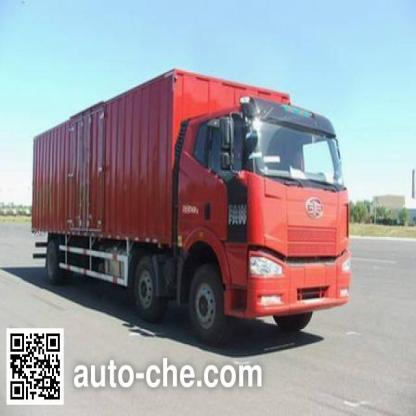normal-truck: (21, 64, 356, 329)
